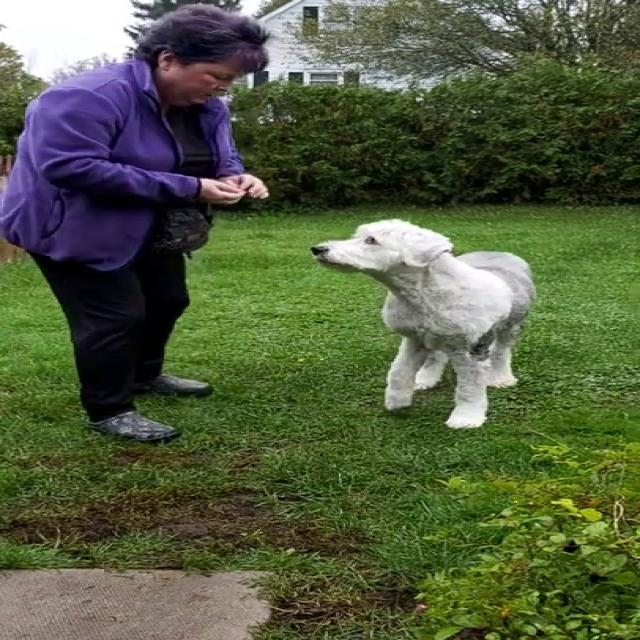Unleashed_Dog: (116, 217, 536, 426)
